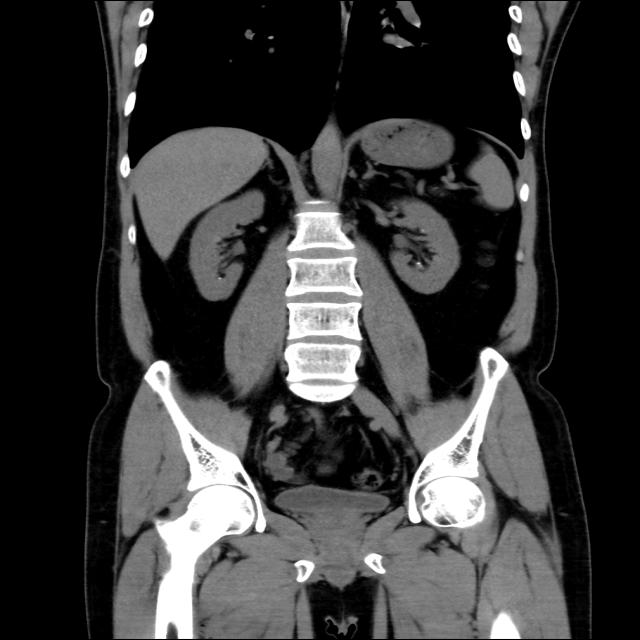kidneystone: (413, 259, 428, 271)
